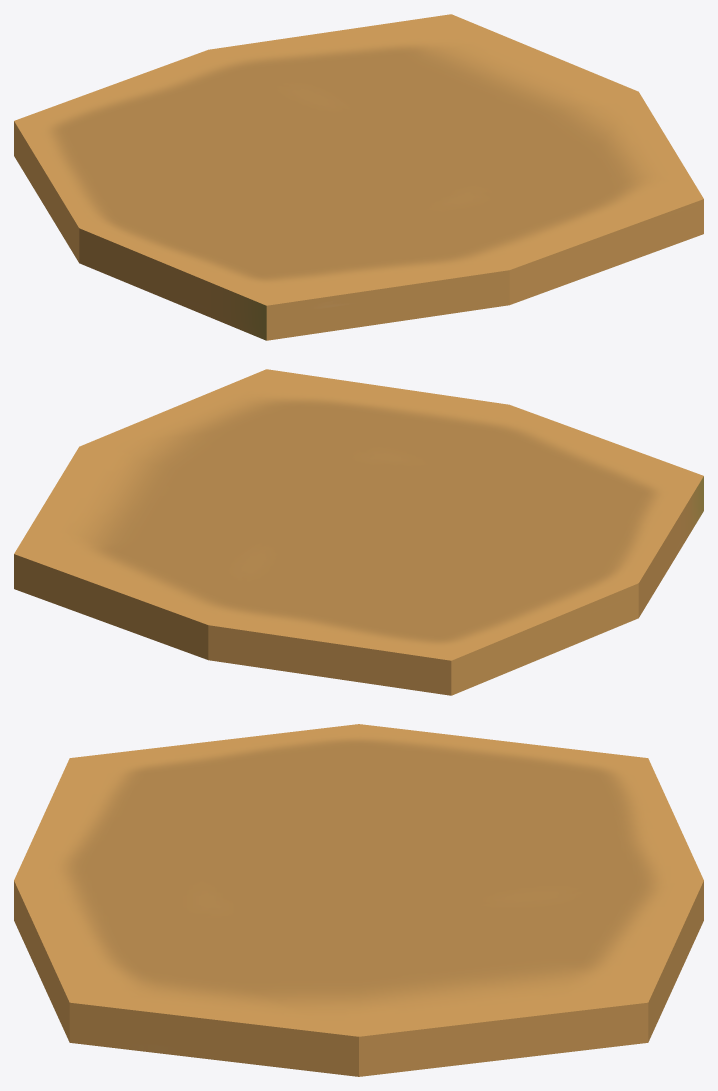
The model's file is Bread_Bottom.glb.
The picture shows the model from 3 angles, top to bottom: view 1: azimuth 30°, elevation 25°; view 2: azimuth 150°, elevation 25°; view 3: azimuth 270°, elevation 25°; orthographic projection. The views are drawn at different scales.
Parts seen in each view (by area): view 1: Hamburguer; view 2: Hamburguer; view 3: Hamburguer.
Boxes of the visible parts, x1,y1,x2,y2 form: Hamburguer: (14, 14, 703, 340); Hamburguer: (14, 369, 703, 695); Hamburguer: (14, 724, 703, 1076).
Size of the model in its own units: 2.51 by 0.1503 by 2.34.
Materials: 1 (1 with a texture image).
